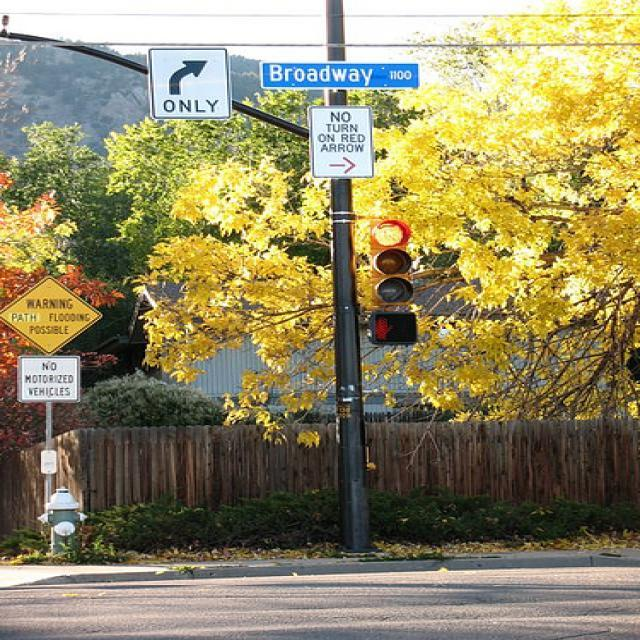fire_hydrant: (36, 485, 87, 556)
